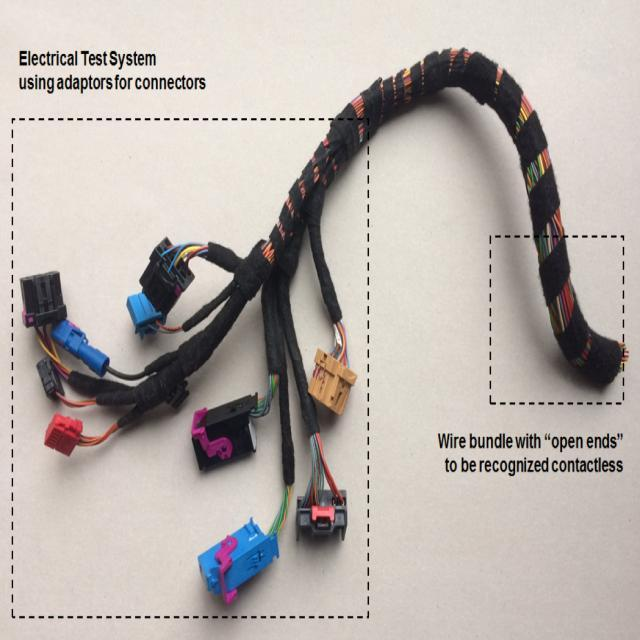connector: (185, 508, 290, 611), (179, 389, 276, 475), (120, 236, 204, 324), (298, 343, 366, 421), (45, 318, 118, 378), (15, 271, 67, 329), (297, 491, 348, 544), (40, 411, 86, 458), (29, 356, 69, 407)
